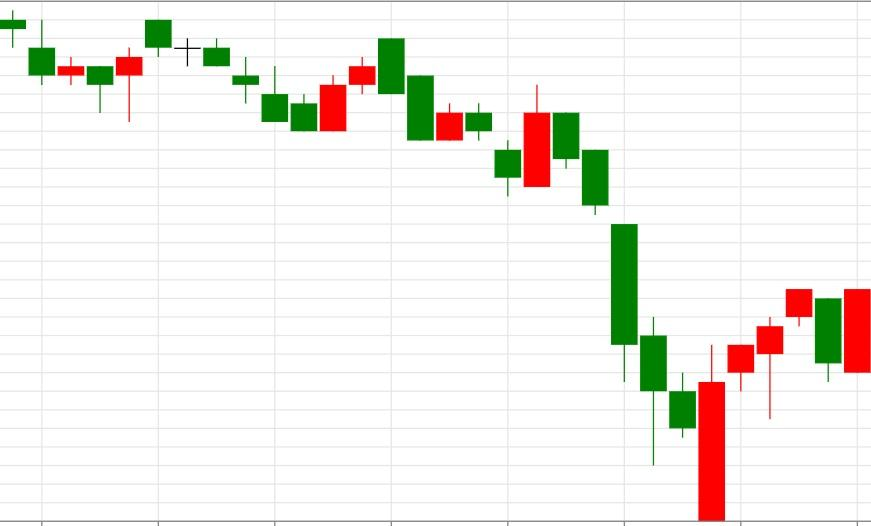bearish_engulfing_fall: (290, 38, 406, 131)
bullish_engulfing_rise: (523, 85, 725, 521), (144, 18, 349, 132)
three_black_crows_fall: (494, 84, 638, 381)
